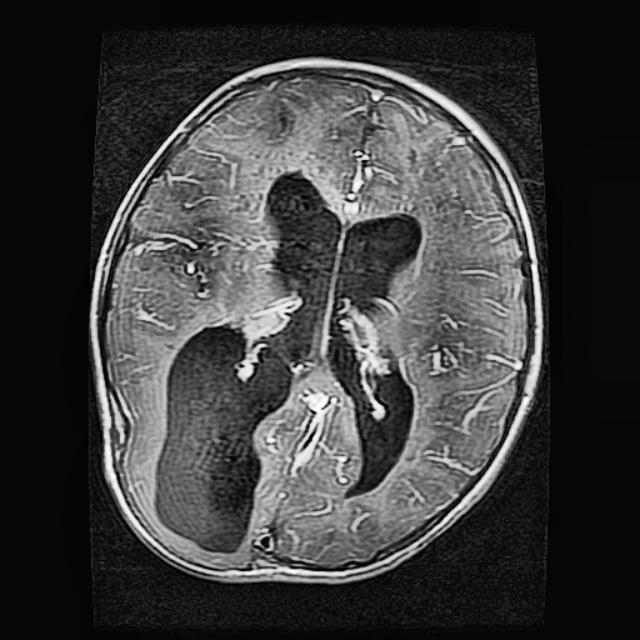Glioma: (154, 327, 294, 553)
